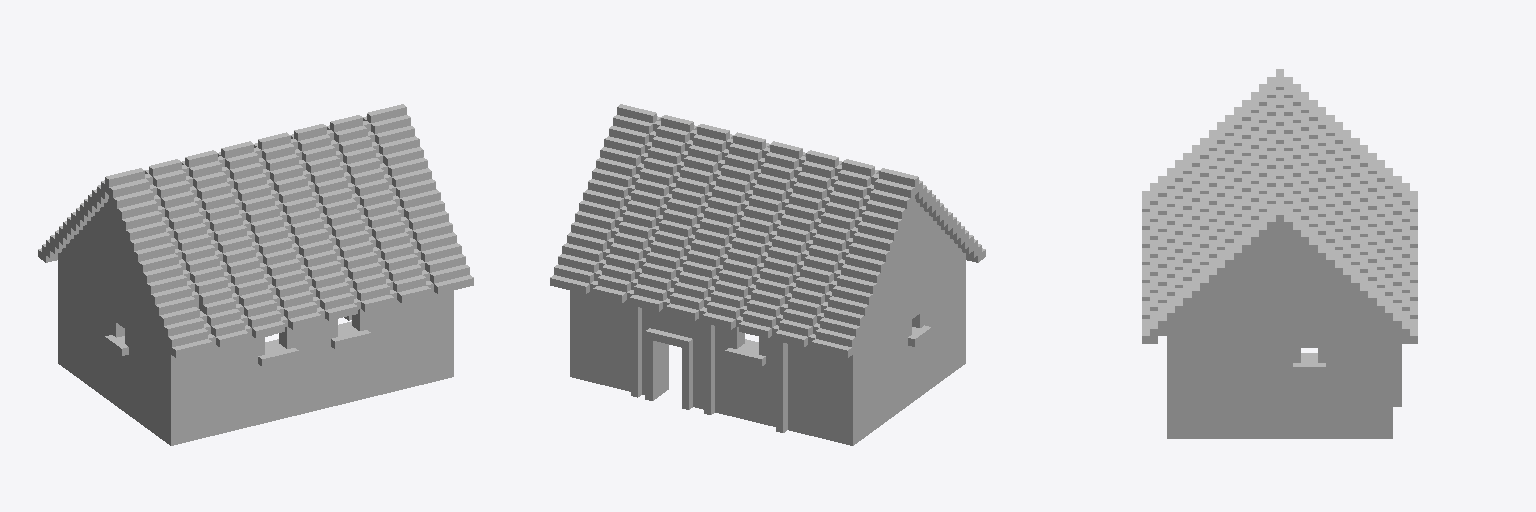
The model's file is house.obj.
The picture shows the model from 3 angles: view 1: azimuth 30°, elevation 25°; view 2: azimuth 150°, elevation 25°; view 3: azimuth 270°, elevation 25°; orthographic projection.
Bounding box in the file's own units: 41 × 30 × 33.